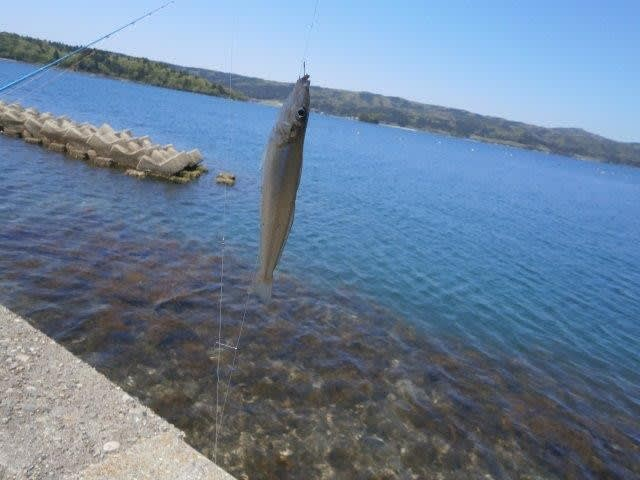kiss: (253, 64, 322, 305)
